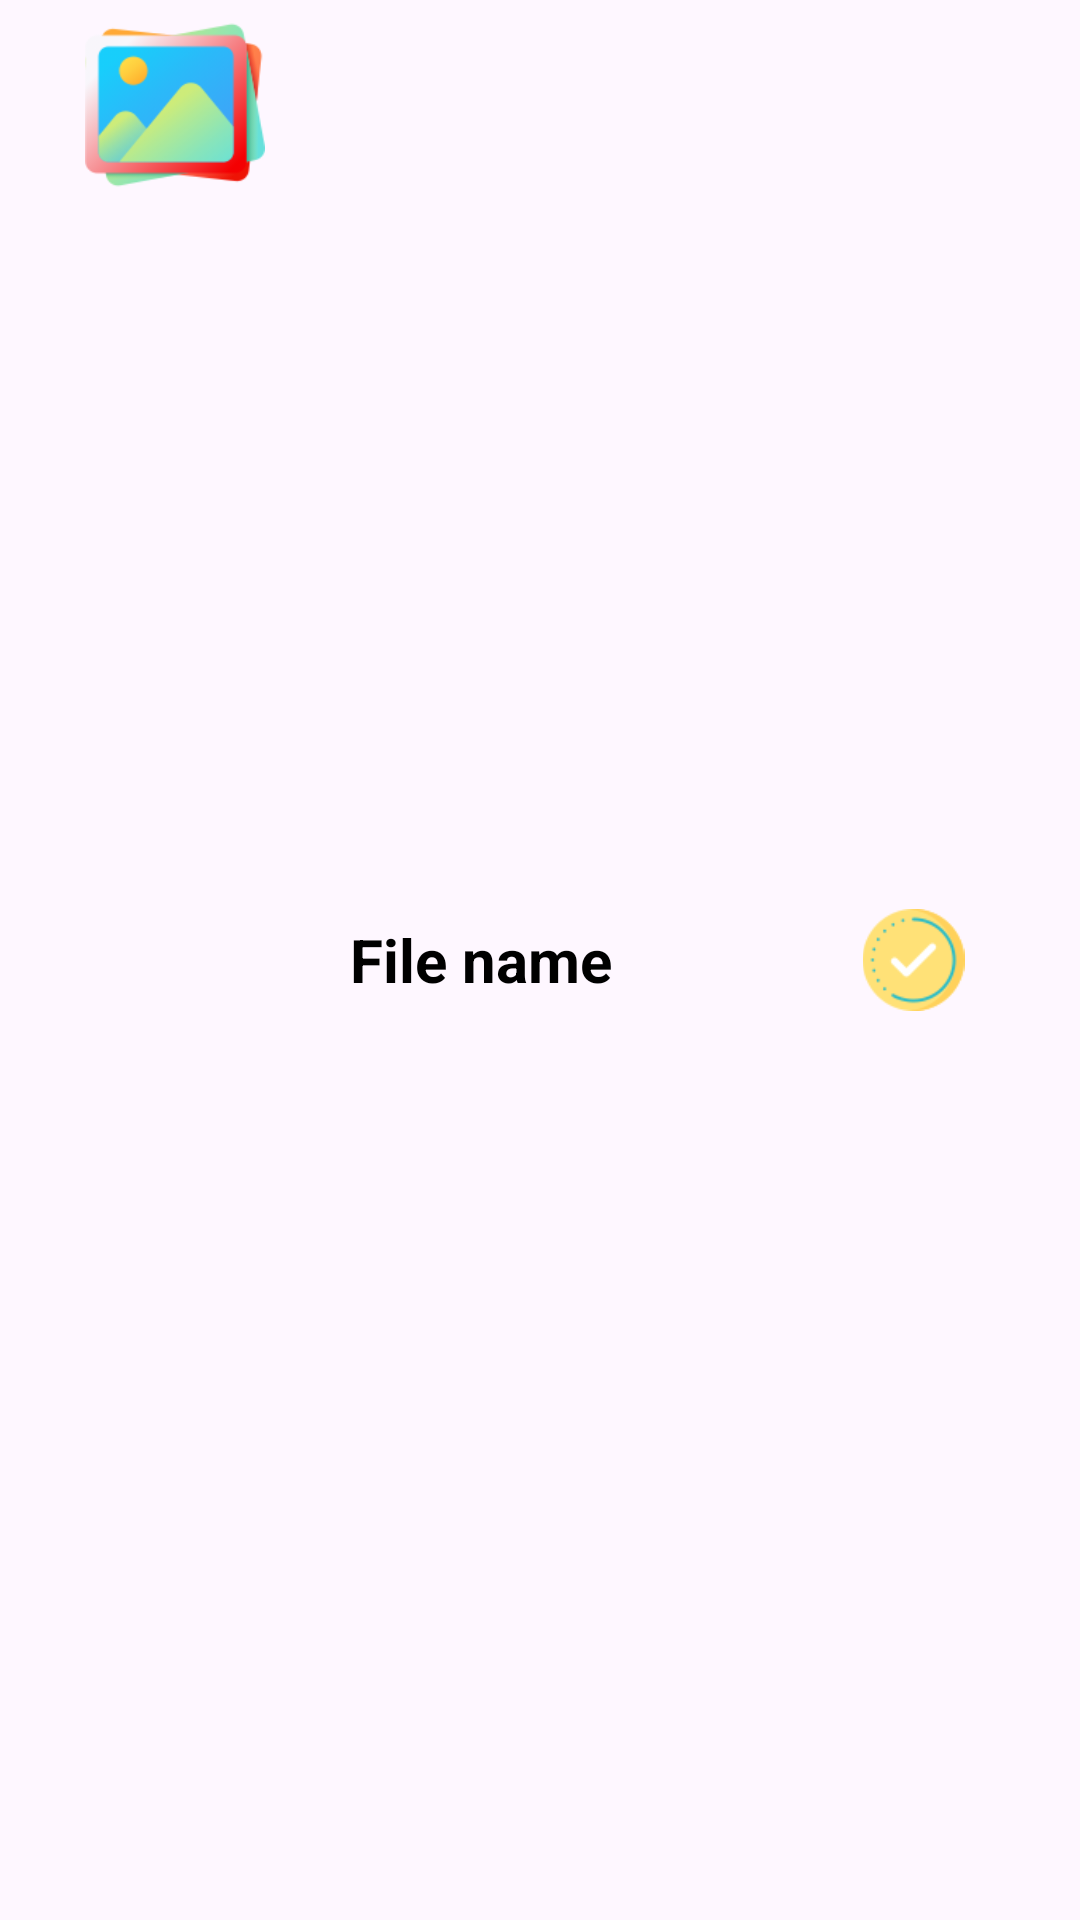

Point at icon controls on the screen. Image size 1080 x 1920, points as point (x, y).
progrss: point (914, 960)
